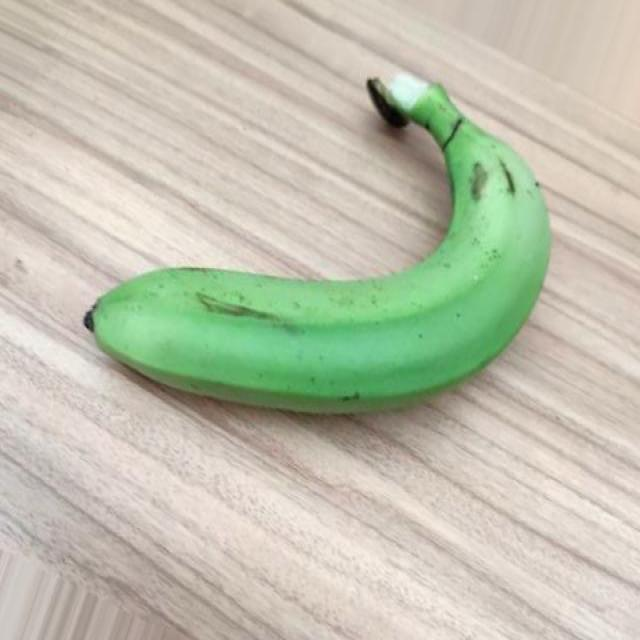Unripe: (84, 70, 551, 420)
